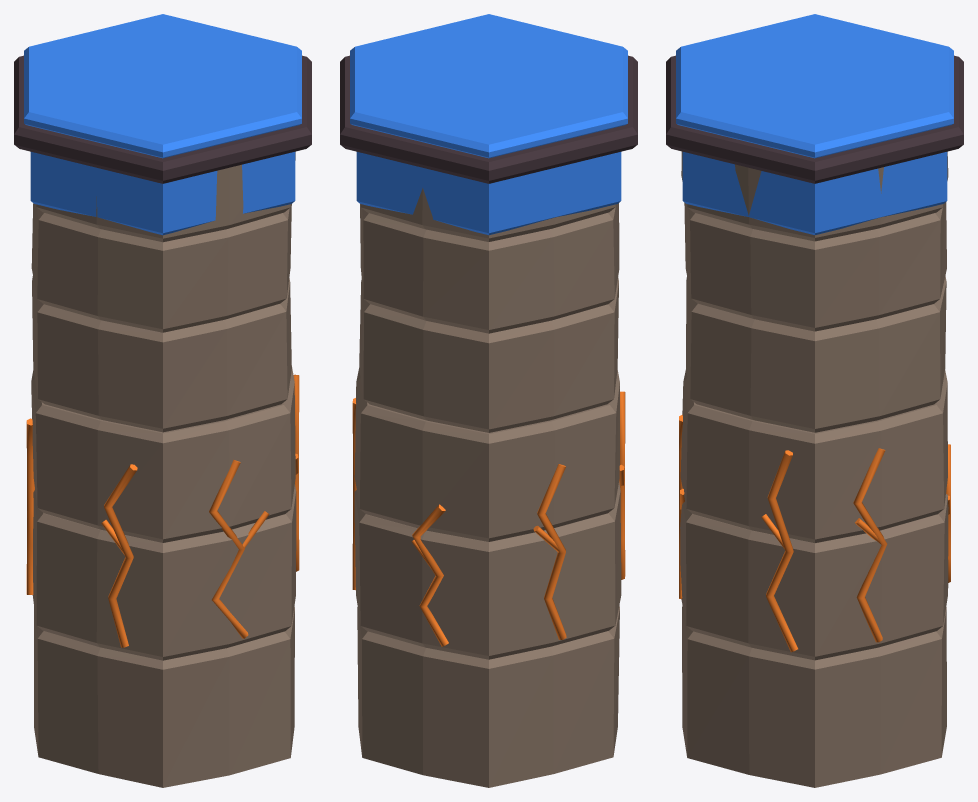
Rendered from HexColumn.obj.
The picture shows the model from 3 angles, left to right: view 1: azimuth 30°, elevation 25°; view 2: azimuth 150°, elevation 25°; view 3: azimuth 270°, elevation 25°; orthographic projection.
Visible parts, largest first — view 1: Rock, Top, Rim, Glow; view 2: Rock, Top, Rim, Glow; view 3: Rock, Top, Rim, Glow.
Boxes of the visible parts, x1,y1,x2,y2 form: Rock: [31, 152, 296, 787]; Top: [24, 14, 301, 235]; Rim: [14, 55, 311, 183]; Glow: [26, 374, 299, 647]; Rock: [354, 188, 621, 787]; Top: [350, 14, 627, 235]; Rim: [340, 55, 637, 183]; Glow: [352, 391, 625, 646]; Rock: [680, 151, 948, 787]; Top: [676, 14, 953, 234]; Rim: [666, 55, 963, 183]; Glow: [679, 414, 950, 652].
Bounding box in the file's own units: 14.9 × 30.95 × 12.9.
